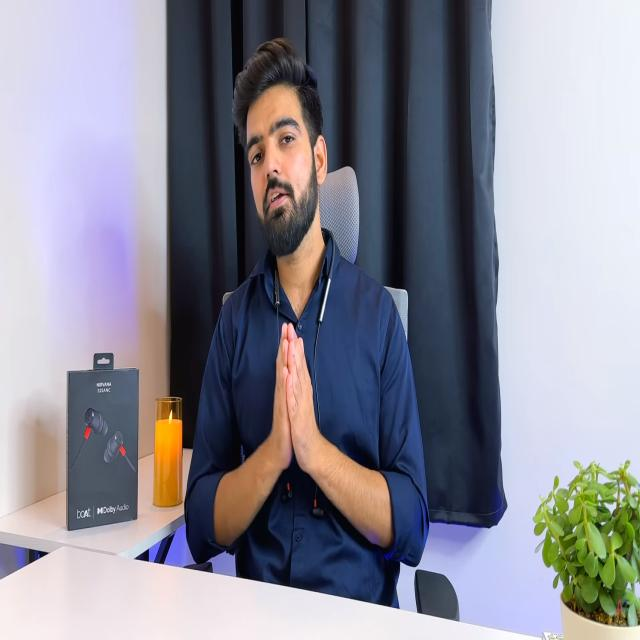Neckband: (275, 227, 335, 520)
